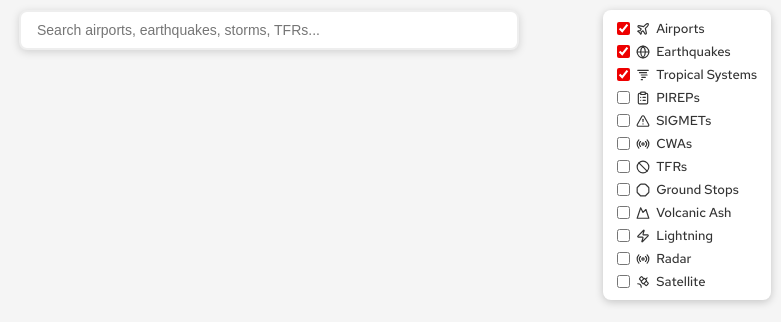
it: UnifiedMap › searches hurricanes by storm name
In the field with id "unified-map-search": (269, 30) [19,10,519,50], type "Alberto"
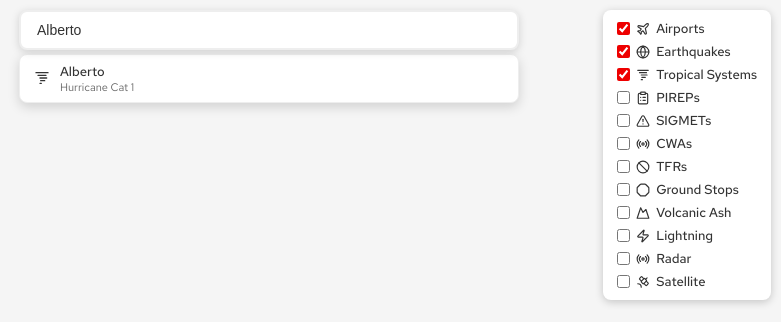
Result: the option with class "search-result-item" is shown at [34,63,134,94]
Result: the text with class "result-title" reads "Alberto" at [60,63,105,80]
